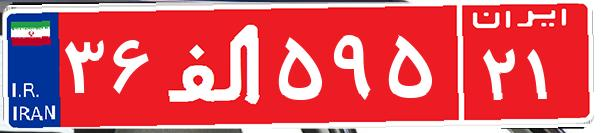1: (525, 38, 570, 115)
2: (475, 38, 525, 113)
3: (57, 26, 110, 107)
5: (385, 28, 445, 110), (273, 28, 330, 110)
6: (110, 28, 158, 105)
9: (330, 28, 385, 110)
الف: (158, 15, 273, 115)
